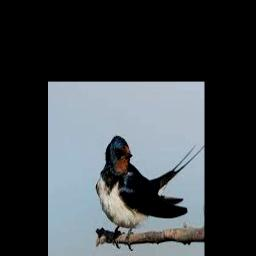Swallow: (97, 136, 205, 247)
